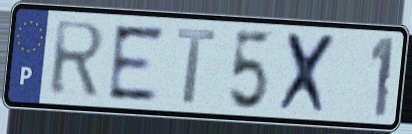1: (367, 34, 398, 122)
5: (226, 26, 278, 112)
E: (107, 22, 166, 102)
R: (47, 18, 108, 99)
T: (174, 27, 219, 107)
X: (275, 29, 342, 118)
